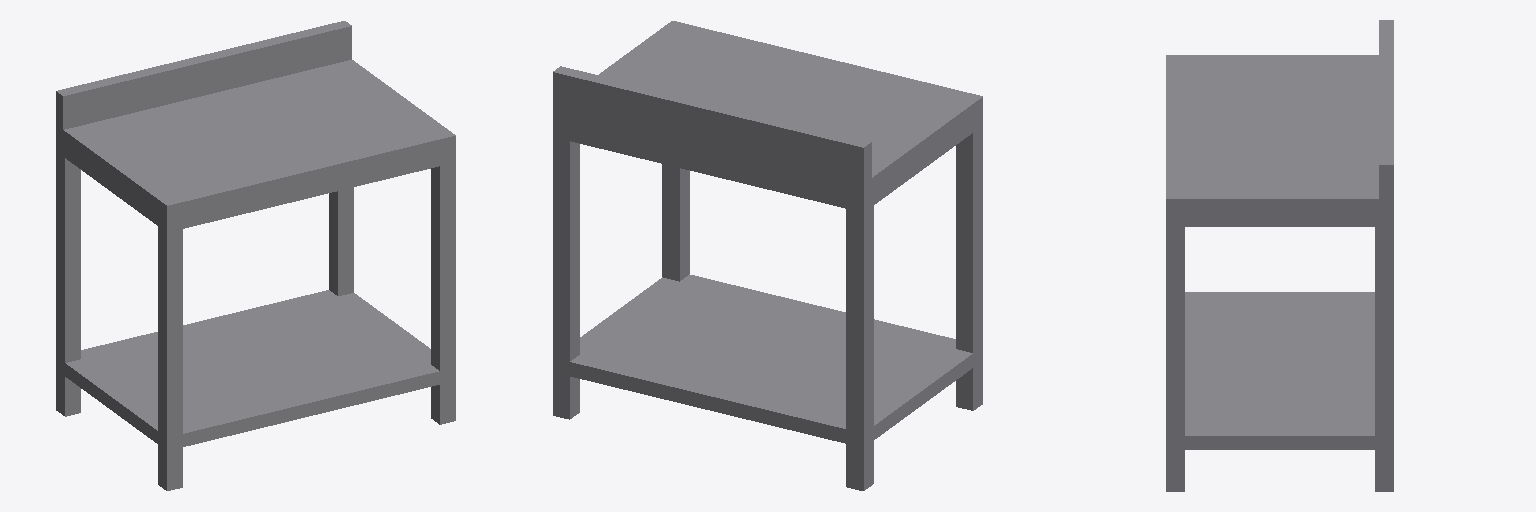
robot.urdf — work_table:
<?xml version="1.0"?>
<!--
  work_table.urdf
  구이 솔루션용 A0509 작업대. 단일 바디(링크 1개).
  - 원본: assets/WorkTable2.step (STEP → STL 변환, mm 단위 → m 스케일)
  - 시각(visual): meshes/work_table.stl (전체 바운딩박스 0.90x0.60x0.95m)
  - 충돌(collision): 삼각형 면적 분석 결과, 실제 상판(하중을 받는 평평한 면)은 z=0.81~0.85m에
    있고 950mm까지의 영역은 얇은 테두리 립(면적 360cm^2, 작음)뿐이라 콜리전을 0.95가 아닌
    0.85로 낮춰서 상판 위에 물체를 놓았을 때 뜨지 않도록 함. 하단 선반(0.12~0.16m)은 생략.
  - 치수 약 0.90 x 0.60 x 0.85 m(콜리전 기준), 로봇/거치대는 상판(z=0.85)에 얹음
  - 메쉬 원점은 바닥 모서리(x=0,y=0,z=0)에 정렬됨 (센터가 아님) → 배치 시 참고
-->
<robot name="work_table">

  <material name="table_gray"> <color rgba="0.6 0.6 0.62 1.0"/> </material>

  <link name="base_link">
    <inertial>
      <origin xyz="0.45 0.3 0.425"/>
      <mass value="40.0"/>
      <!-- 박스 관성 (m=40, 0.9x0.6x0.85) -->
      <inertia ixx="3.42" ixy="0" ixz="0" iyy="4.91" iyz="0" izz="3.90"/>
    </inertial>

    <visual>
      <origin xyz="0 0 0"/>
      <geometry><mesh filename="meshes/work_table.stl" scale="1 1 1"/></geometry>
      <material name="table_gray"/>
    </visual>

    <!-- 충돌 박스 = 실제 상판 높이(0~0.85m)만 반영 (x:0~0.9, y:0~0.6) -->
    <collision>
      <origin xyz="0.45 0.3 0.425"/>
      <geometry><box size="0.9 0.6 0.85"/></geometry>
    </collision>
  </link>
</robot>

--- Render facts (derived) ---
Views: 3 orthographic renders of the robot side by side, from view 1: azimuth 30°, elevation 25°; view 2: azimuth 150°, elevation 25°; view 3: azimuth 270°, elevation 25°.
Robot: work_table — 1 links, 0 joints (none); root link base_link; default pose: every joint at zero.
Links seen in each view (by area): view 1: base_link; view 2: base_link; view 3: base_link.
Link boxes in pixels (x1,y1,x2,y2): base_link: (56,21,455,490); base_link: (553,21,982,490); base_link: (1166,20,1393,491).
Bounding box of the posed robot: 0.9 × 0.6 × 0.95 m (x, y, z).
Meshes: 1 distinct files referenced, 1 mesh visuals loaded (1 binary STL).
